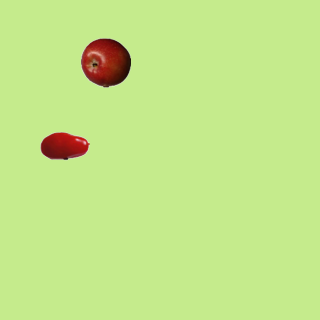Apple Braeburn: (80, 37, 130, 87)
Tomato 2: (39, 120, 89, 170)
